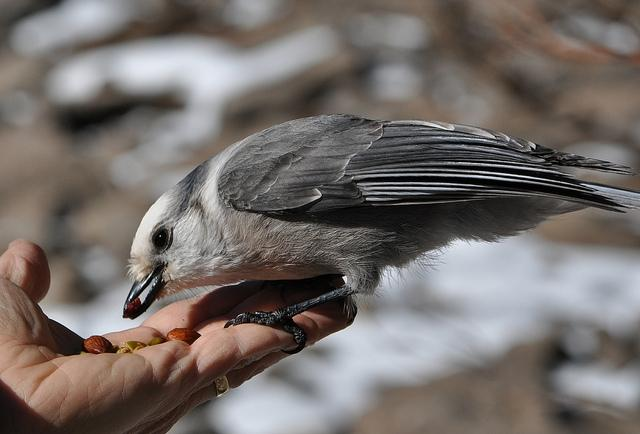almond: (166, 328, 202, 346), (80, 335, 114, 354)
